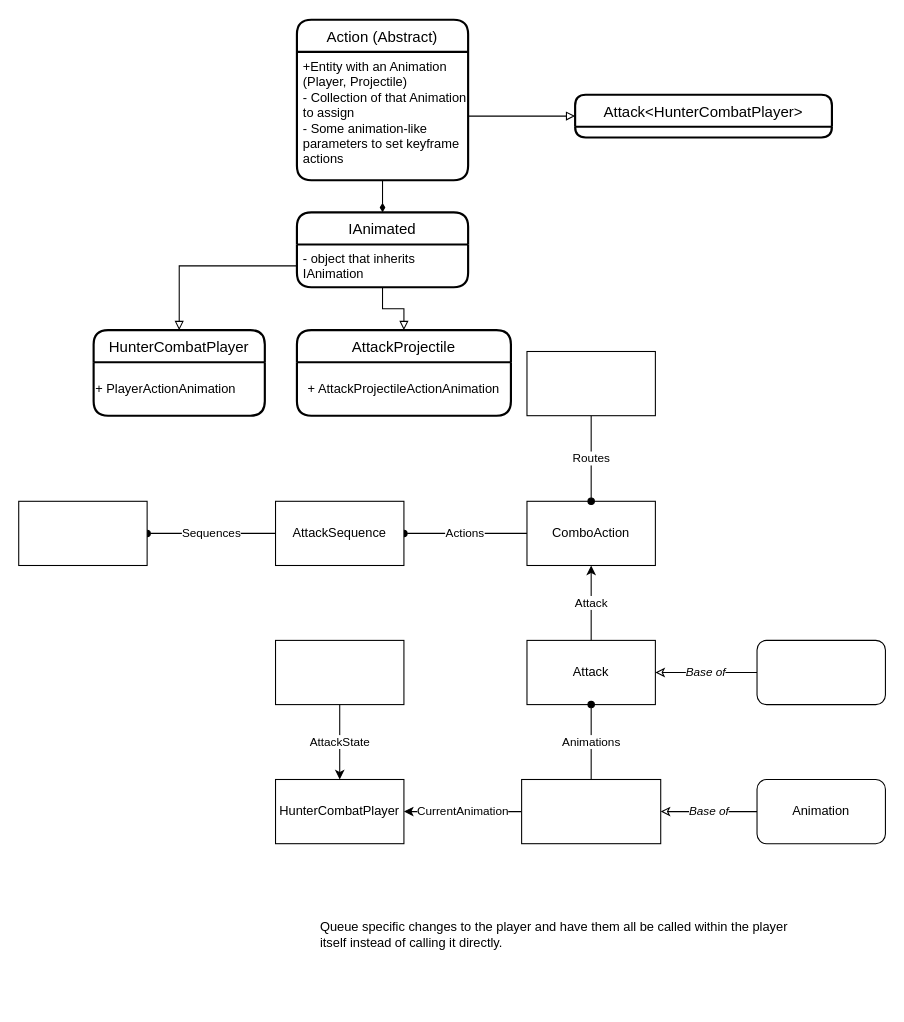
Image size: 904x1022. Some labels were removed from this diagram. The shapes that lost their labels are listed below. From the top down, each one's centre as x and y in pixels, then its label:
(x=590, y=383): ComboRoute
(x=82, y=532): Item/Weapon
(x=339, y=672): PlayerAttackState
(x=820, y=672): Action
(x=591, y=811): PlayerActionAnimation
